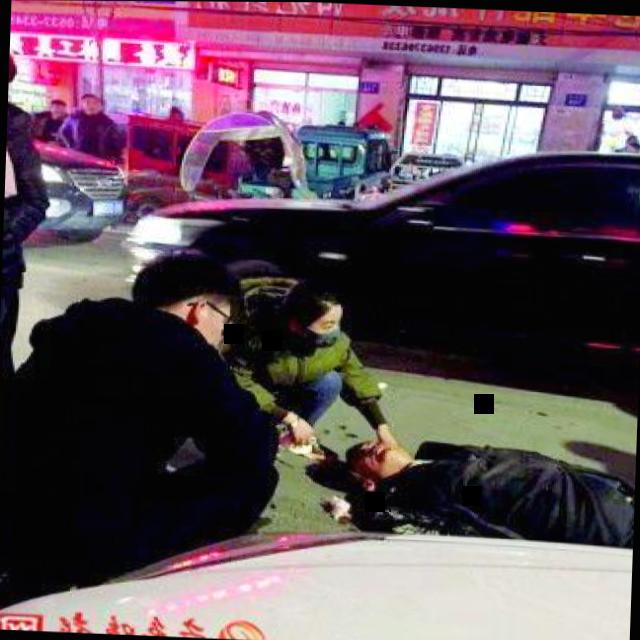Fall-Detected: (310, 418, 636, 556)
